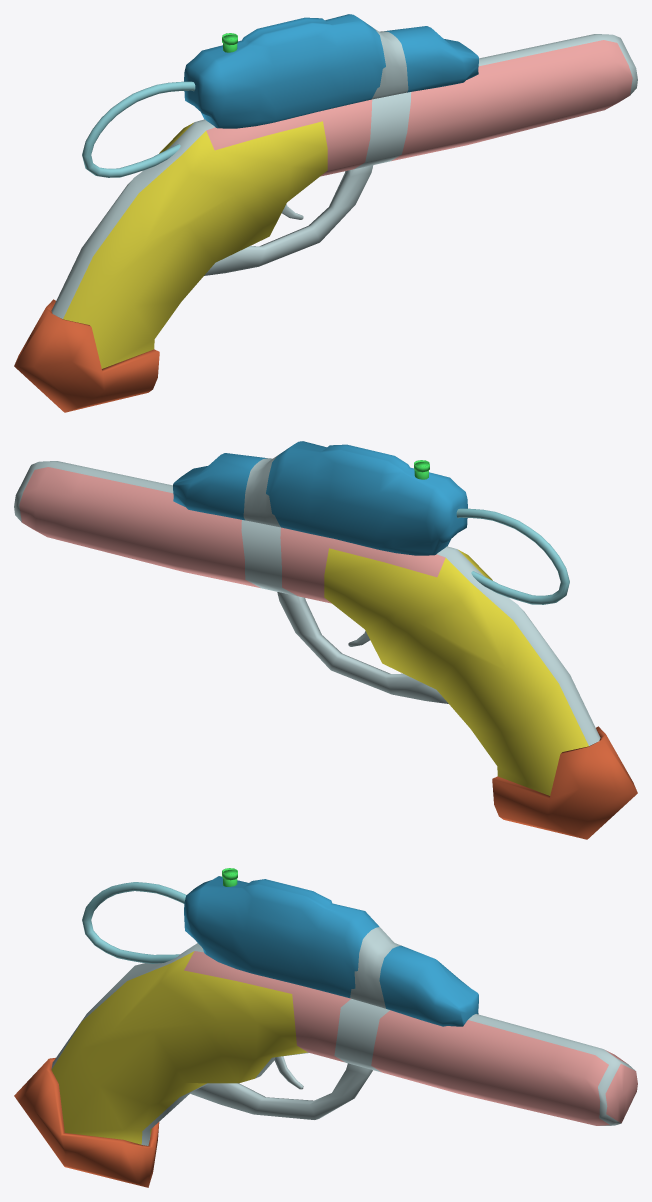
File: GGJ_Bubble_Gun1.fbx
3 views of the same model, one above another, from view 1: azimuth 30°, elevation 25°; view 2: azimuth 150°, elevation 25°; view 3: azimuth 330°, elevation 25° (orthographic).
Visible parts, largest first — view 1: Material Gun, 01_Blubub, 01_Trigger Buddy, 01_Main Gun Pipe; view 2: Material Gun, 01_Blubub, 01_Trigger Buddy, 01_Main Gun Pipe; view 3: Material Gun, 01_Blubub, 01_Trigger Buddy, 01_Main Gun Pipe.
Part boxes in pixels (bbox=[...]): Material Gun: bbox=[14, 34, 637, 412]; 01_Blubub: bbox=[184, 14, 478, 128]; 01_Trigger Buddy: bbox=[204, 165, 373, 275]; 01_Main Gun Pipe: bbox=[82, 81, 195, 177]; Material Gun: bbox=[14, 461, 637, 839]; 01_Blubub: bbox=[173, 441, 467, 555]; 01_Trigger Buddy: bbox=[277, 592, 448, 703]; 01_Main Gun Pipe: bbox=[456, 508, 569, 604]; Material Gun: bbox=[14, 943, 637, 1187]; 01_Blubub: bbox=[184, 868, 478, 1026]; 01_Trigger Buddy: bbox=[189, 1063, 372, 1119]; 01_Main Gun Pipe: bbox=[82, 882, 186, 963].
Size of the model in its own units: 384 by 203 by 46.01.
